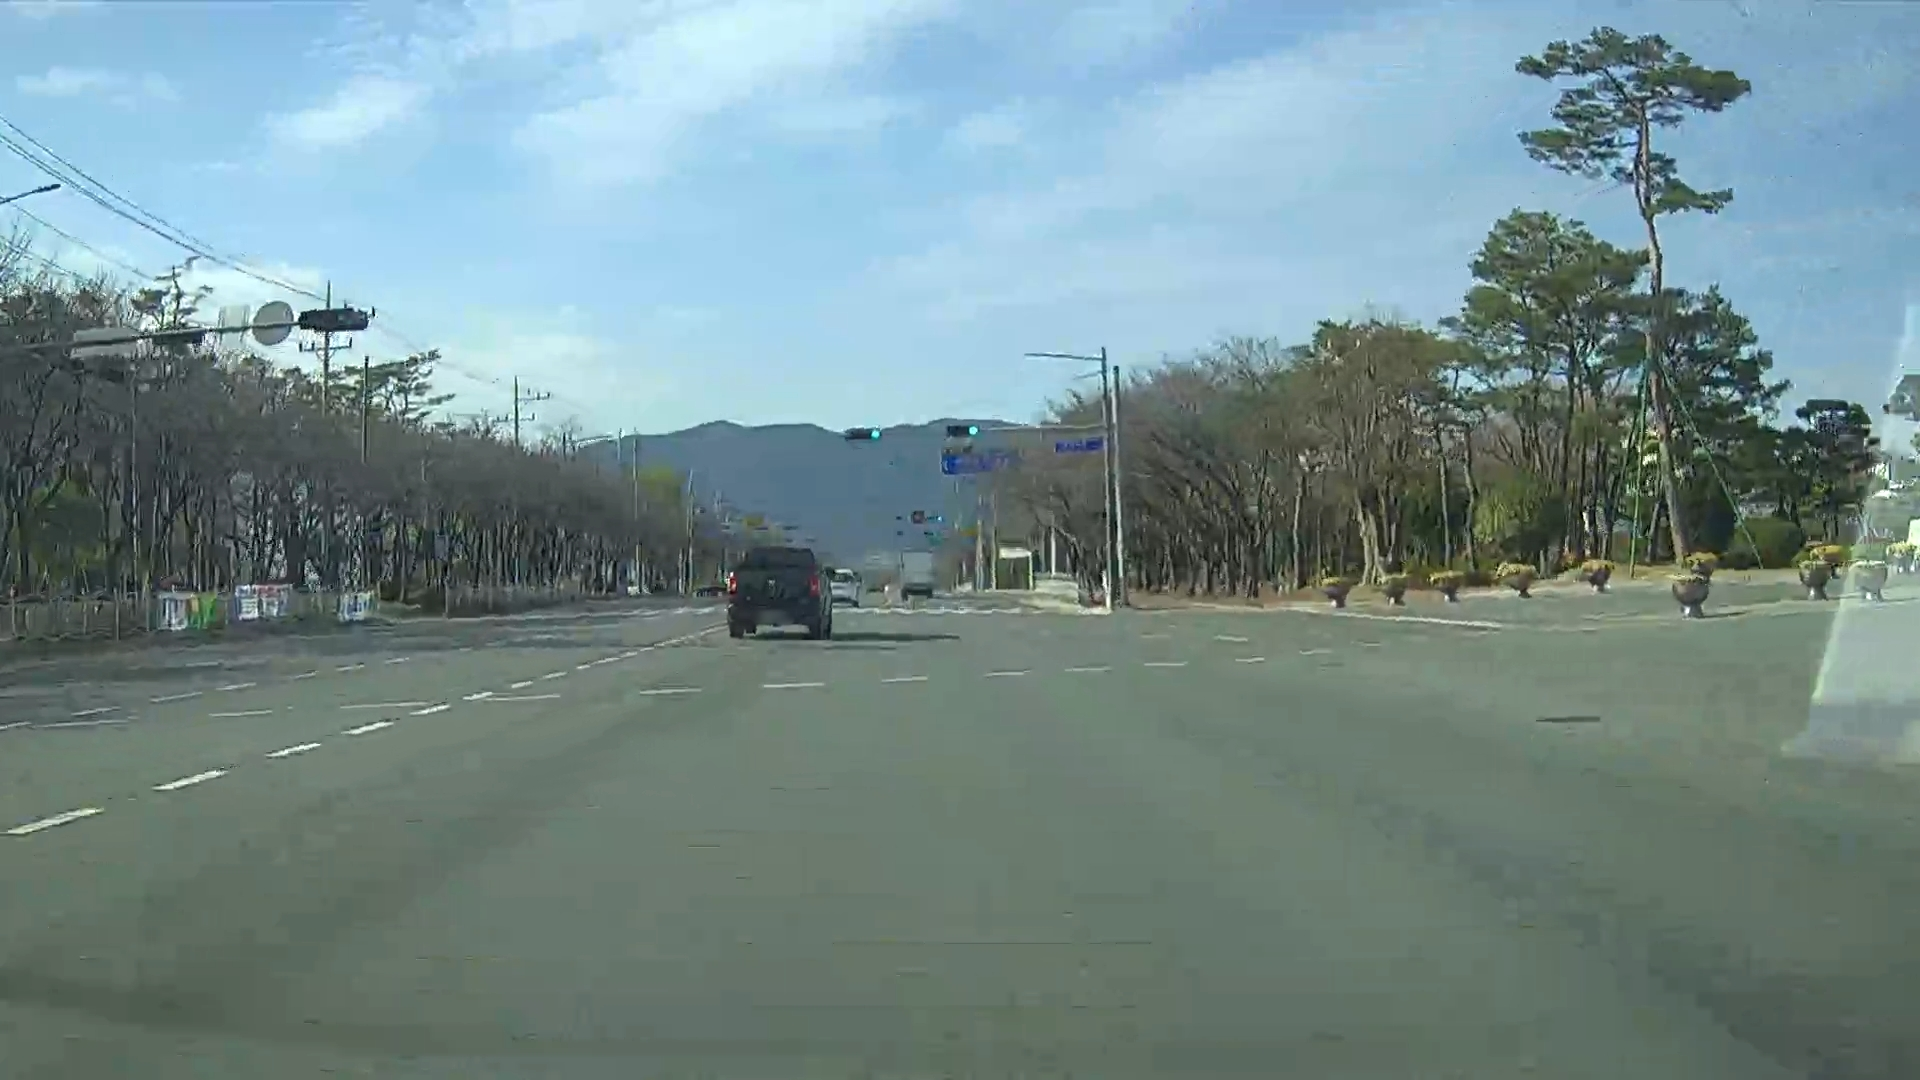trafficLight: (843, 423, 984, 436)
